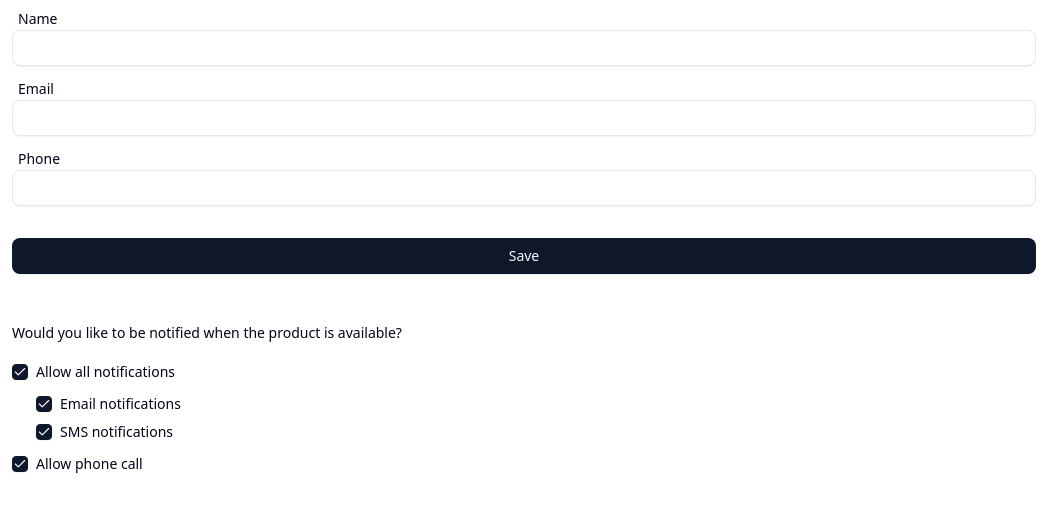
it: WaitListForm component tests › Fail submission tests › should show an error when submit a invalid email
Type "gab@com" into the field labelled "Email" at (524,118), box [12, 100, 1036, 136]
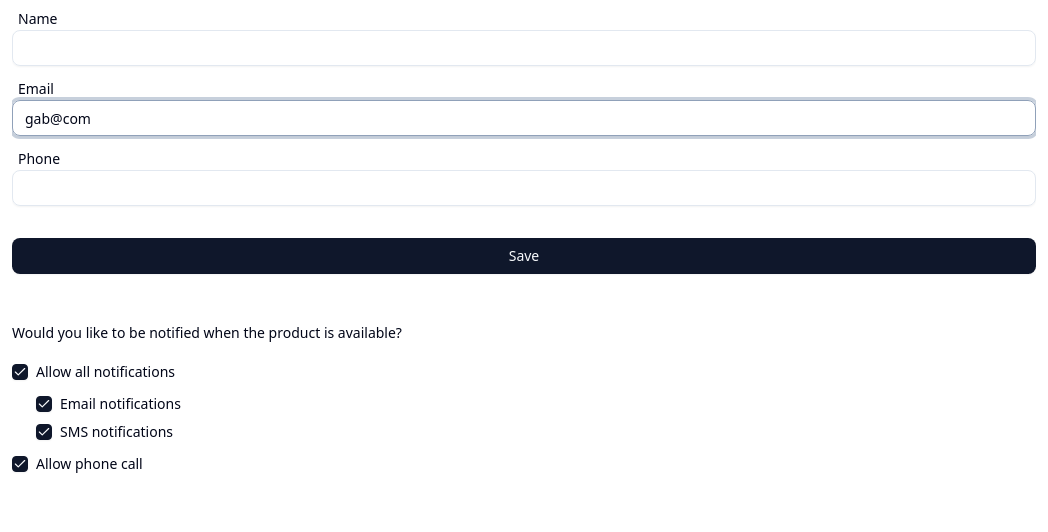
Click the button at (524,256), box [12, 238, 1036, 274]
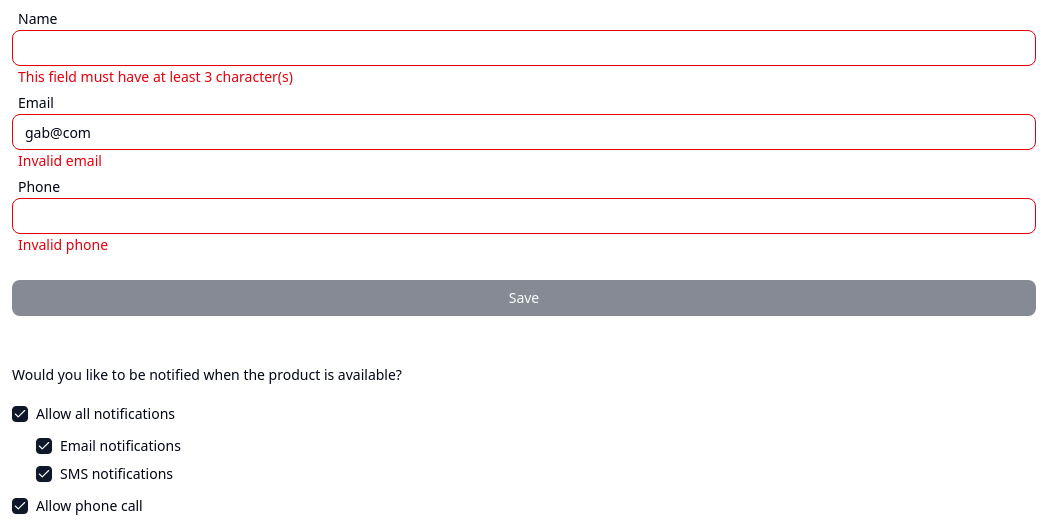
Result: the text "Invalid email" is shown at [18, 151, 102, 170]
